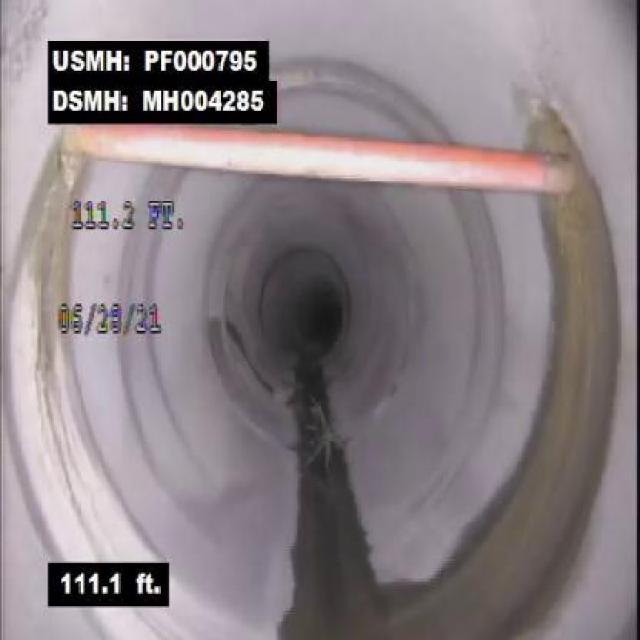Utility intrusion: (56, 123, 610, 202)
